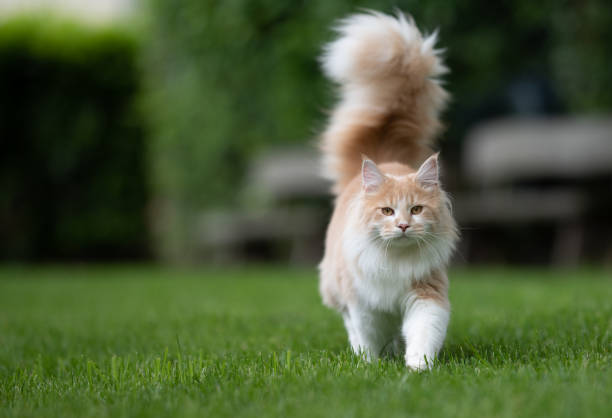Cat: (315, 7, 464, 372)
